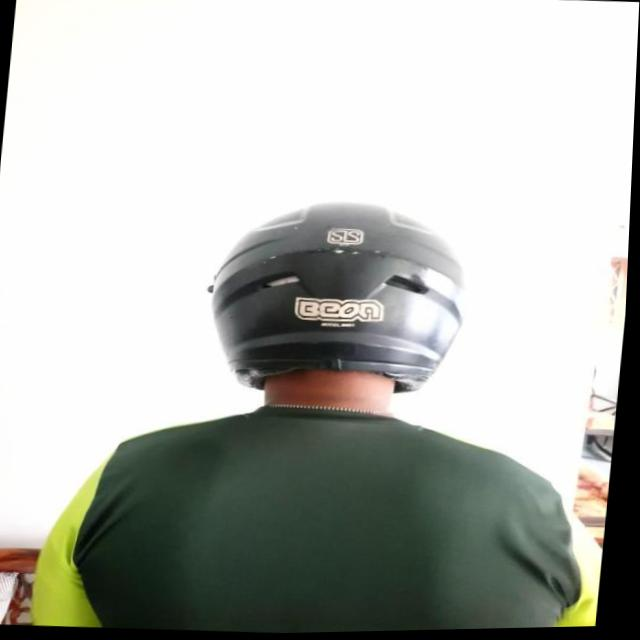helmet: (202, 195, 477, 404)
